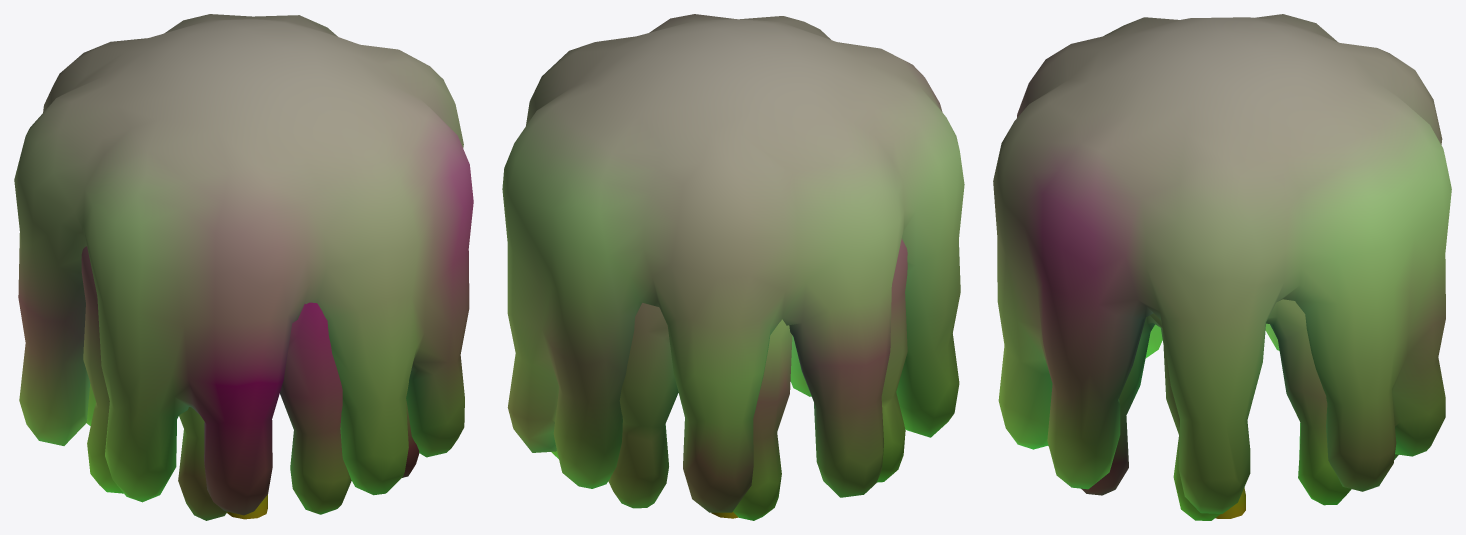
File: weeping.glb
3 renders of one model, left to right at view 1: azimuth 30°, elevation 25°; view 2: azimuth 150°, elevation 25°; view 3: azimuth 270°, elevation 25°, orthographic.
Parts seen in each view (by area): view 1: weeping_0_lod0, weeping_1_lod0; view 2: weeping_0_lod0, weeping_1_lod0; view 3: weeping_0_lod0, weeping_1_lod0.
Boxes of the visible parts, box(x1,y1,x2,y2) form: weeping_0_lod0: box(14, 14, 473, 519); weeping_1_lod0: box(81, 246, 419, 520); weeping_0_lod0: box(502, 14, 964, 518); weeping_1_lod0: box(551, 238, 907, 520); weeping_0_lod0: box(993, 14, 1451, 518); weeping_1_lod0: box(1048, 299, 1398, 520).
Size of what is drawn, in the model's own units: 8.74 by 9.9 by 8.78.
